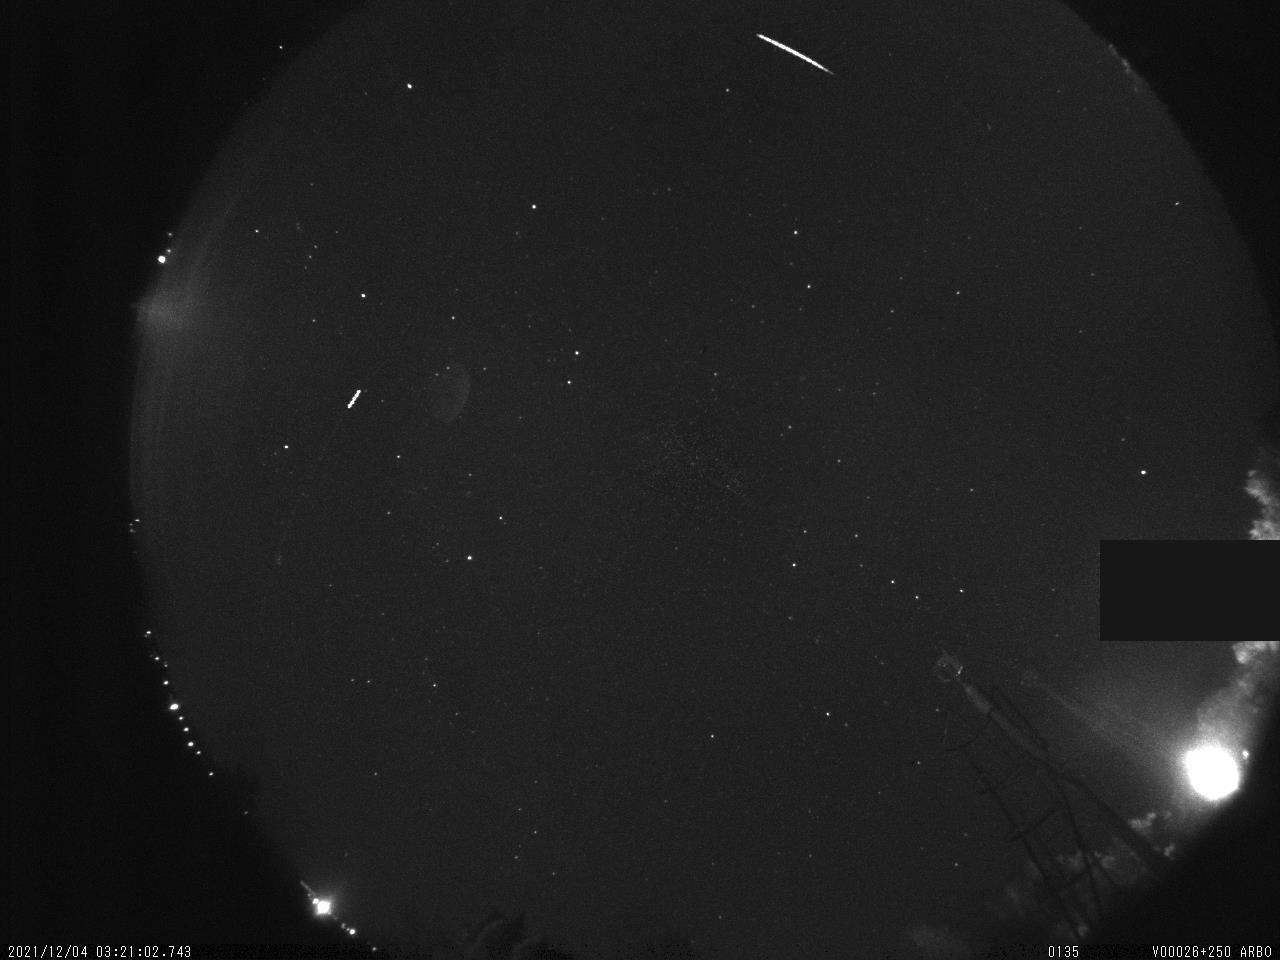Meteor: (753, 30, 834, 76)
